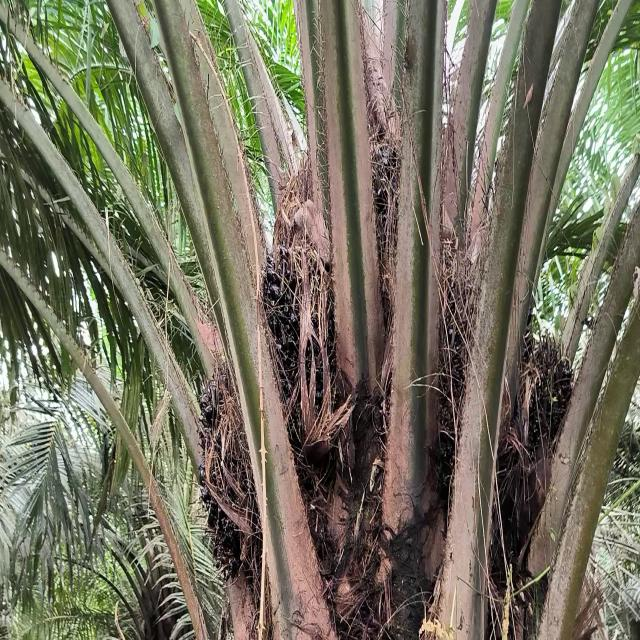palm-oil: (496, 324, 574, 574), (194, 358, 264, 608), (253, 237, 344, 425), (430, 250, 490, 500), (356, 138, 410, 339)
